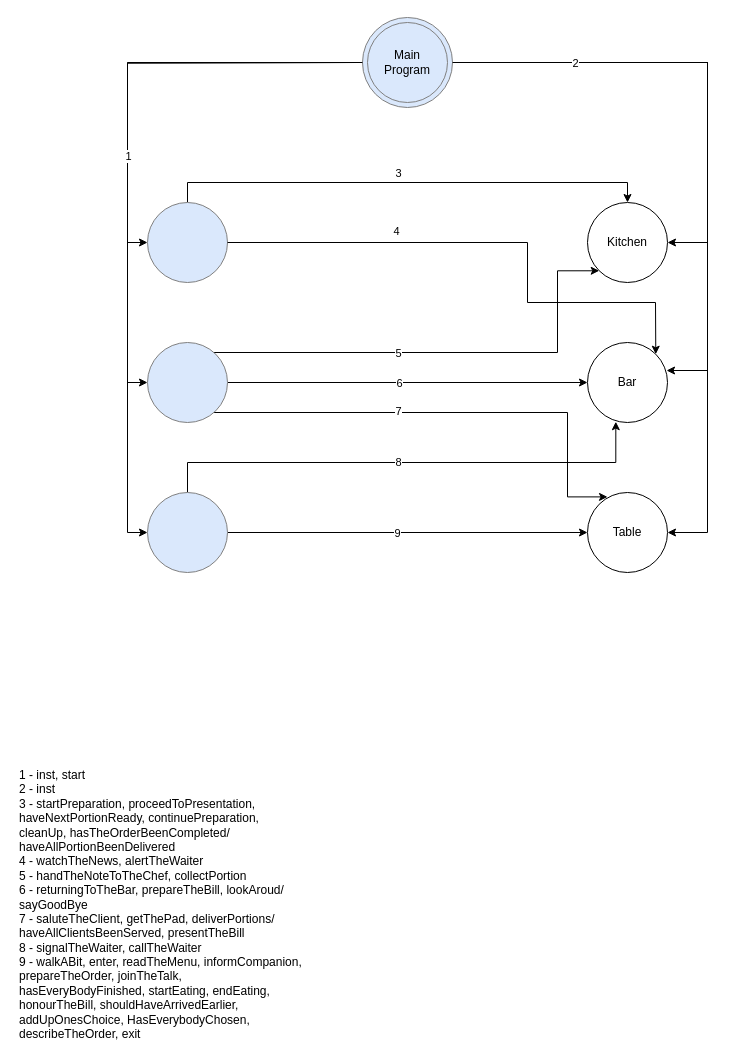
The diagram is 733 pixels wide and 1060 high, and some of its shapes have lost their labels. The box of each missing label's shape, as (x1, y1, x2, y2) in pixels:
Chef: (146, 202, 228, 282)
Student[n] n=0..7: (146, 492, 228, 572)
Waiter: (146, 342, 228, 422)
